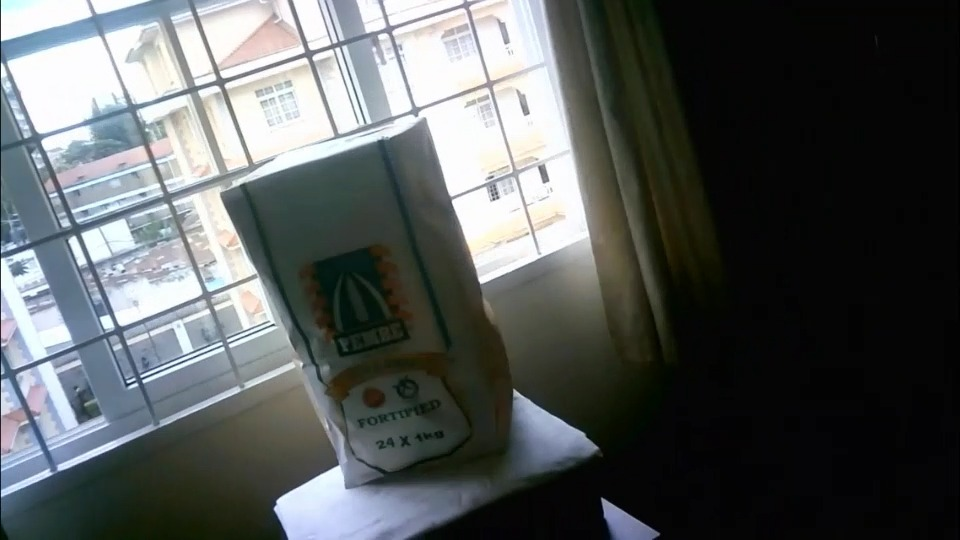maize_flour_green_label: (219, 117, 509, 484)
